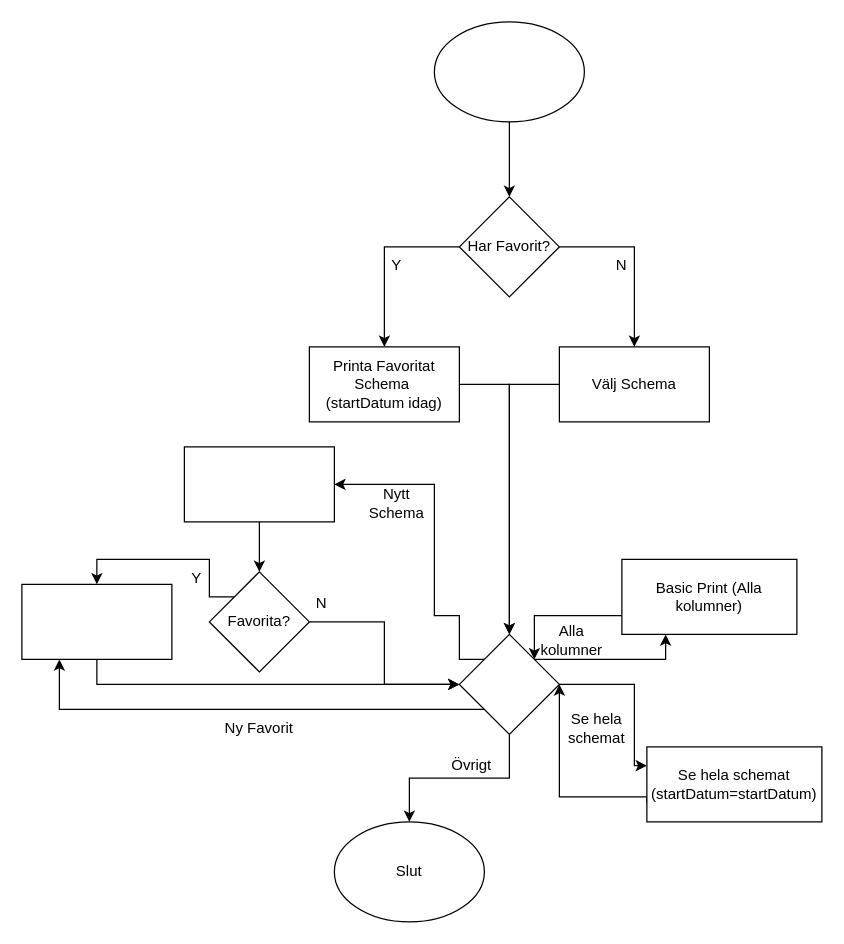
The diagram is 844 pixels wide and 944 high, and some of its shapes have lost their labels. The shapes that lost their labels are listed below. From the top down, each one's centre as x and y in pixels, then its label:
[508,71]: Start
[258,484]: Lägg till Schema (URL med startDatum)
[96,621]: Favorita nya/ Avfavorita gamla
[508,683]: Alternativ
